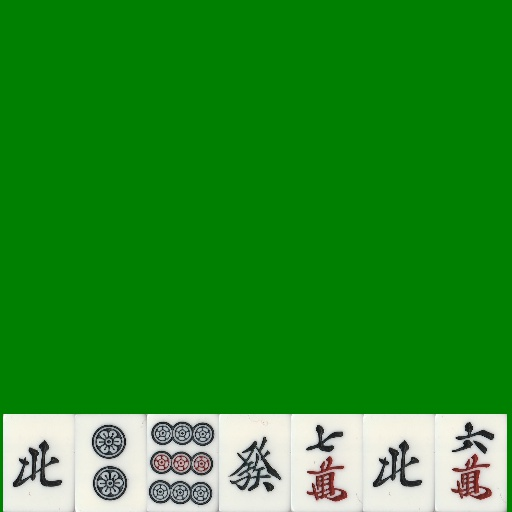2p: (75, 414, 147, 512)
6m: (435, 414, 507, 512)
7m: (291, 414, 363, 512)
9p: (147, 414, 219, 512)
hatsu: (219, 414, 291, 512)
north: (3, 414, 75, 512), (363, 414, 435, 512)
